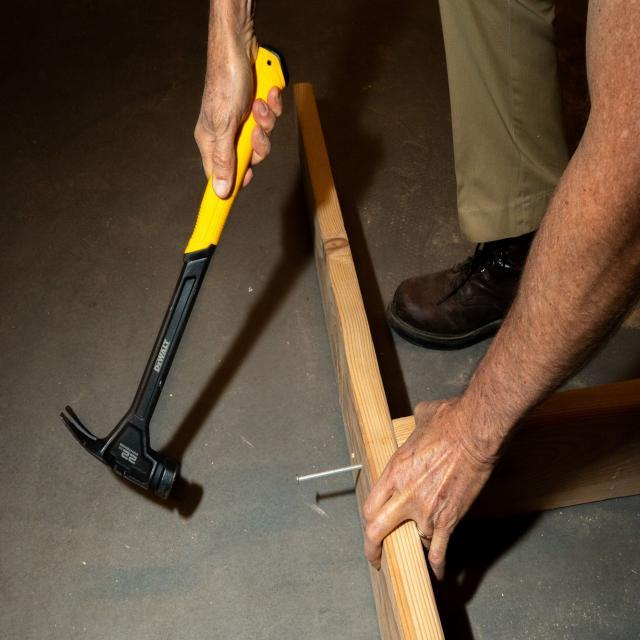hammer: (55, 39, 292, 514)
